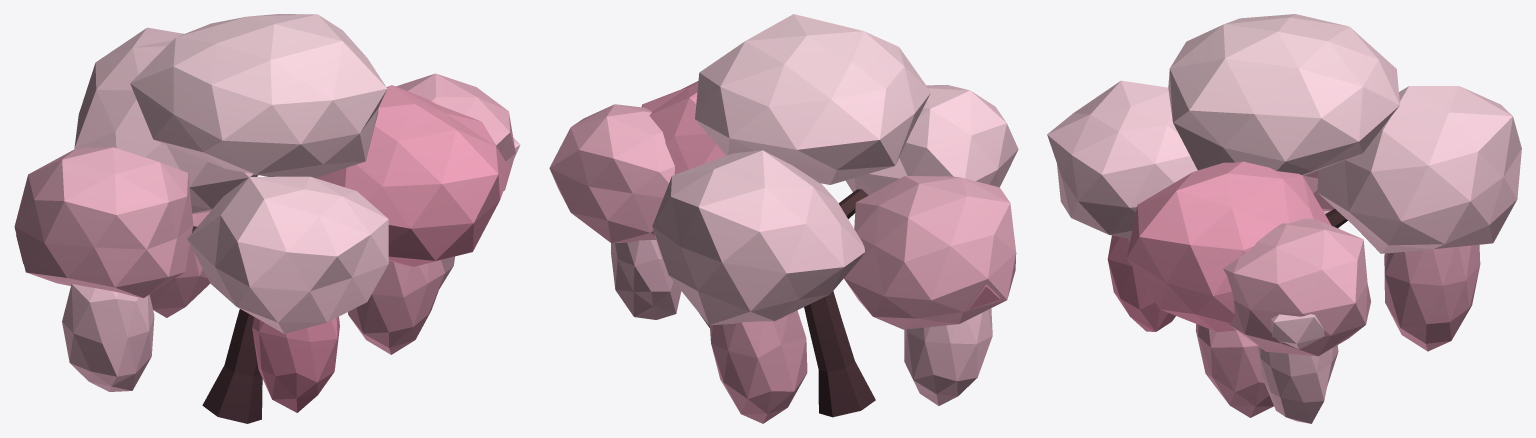
File: sakura_c.glb
3 views of the same model, side by side, from view 1: azimuth 30°, elevation 25°; view 2: azimuth 150°, elevation 25°; view 3: azimuth 270°, elevation 25° (orthographic). The views are drawn at different scales.
Parts seen in each view (by area): view 1: sakura_c; view 2: sakura_c; view 3: sakura_c.
Boxes of the visible parts, left/top/right/bottom form: sakura_c: left=14, top=14, right=520, bottom=423; sakura_c: left=549, top=14, right=1018, bottom=423; sakura_c: left=1047, top=14, right=1521, bottom=423.
Bounding box in the file's own units: 6.48 × 5 × 5.73.
